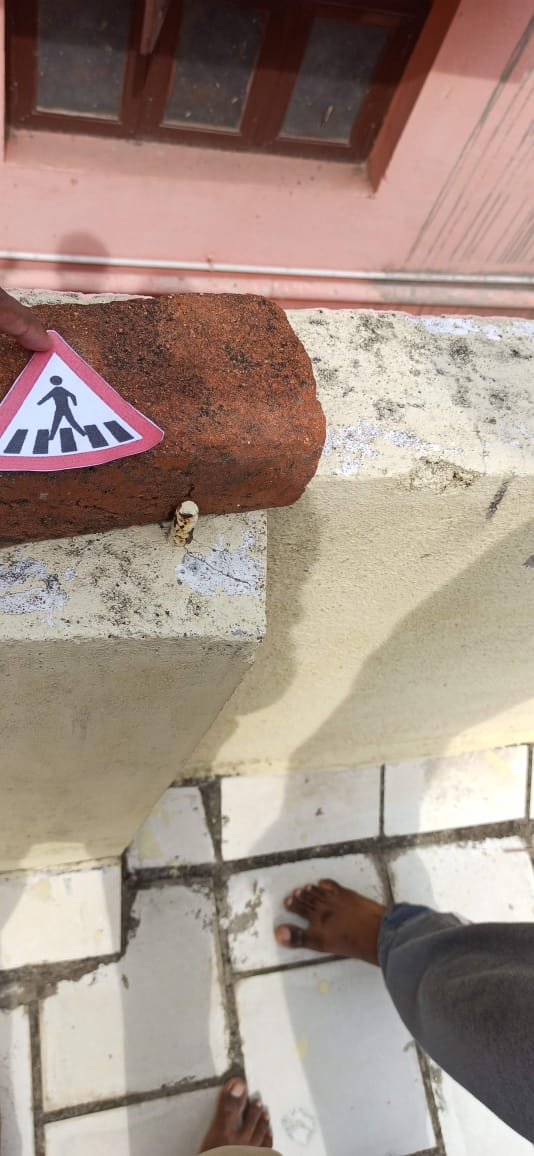PEDESTRIAN CROSSING: (1, 343, 173, 467)
